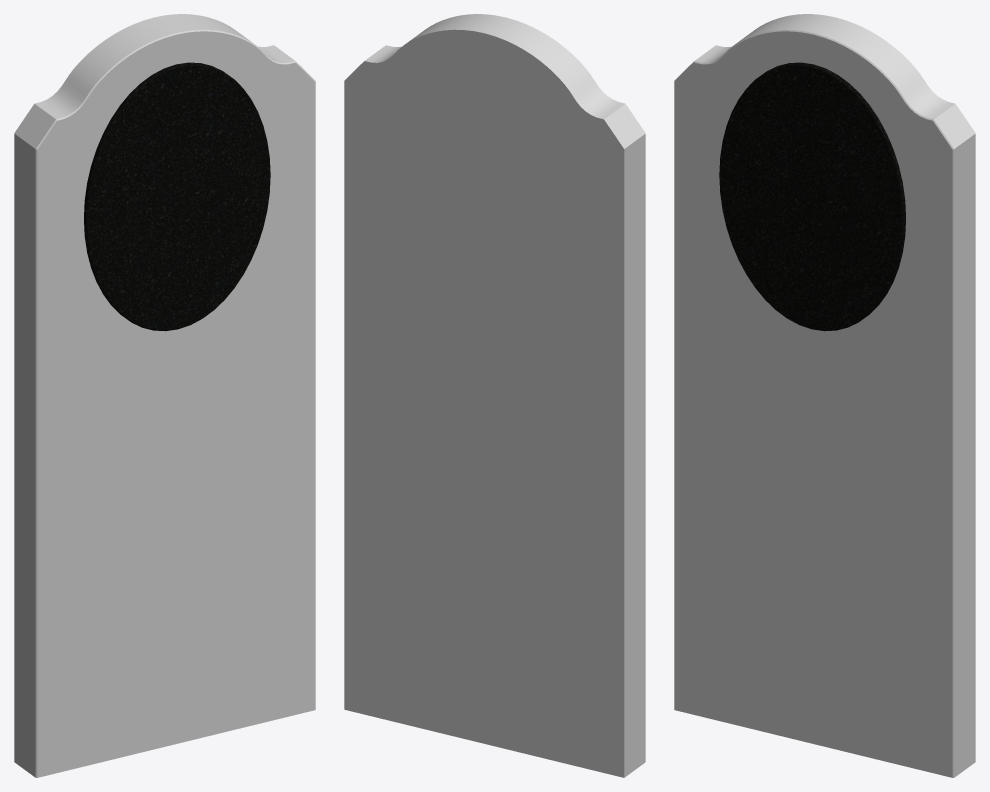
File: cnedab32e637_tkf.glb
3 views of the same model, side by side, from view 1: azimuth 30°, elevation 25°; view 2: azimuth 150°, elevation 25°; view 3: azimuth 330°, elevation 25° (orthographic).
Visible parts, largest first — view 1: Pam-kombi-019, Pam-kombi-019_2_notexture; view 2: Pam-kombi-019; view 3: Pam-kombi-019, Pam-kombi-019_2_notexture.
Part boxes in pixels (left/top/right/bottom): Pam-kombi-019: left=14, top=14, right=315, bottom=777; Pam-kombi-019_2_notexture: left=84, top=62, right=270, bottom=331; Pam-kombi-019: left=344, top=14, right=645, bottom=777; Pam-kombi-019: left=674, top=14, right=975, bottom=777; Pam-kombi-019_2_notexture: left=719, top=62, right=905, bottom=331.
Bounding box in the file's own units: 0.33 × 0.8 × 0.05.
Materials: 1 (1 with a texture image).
